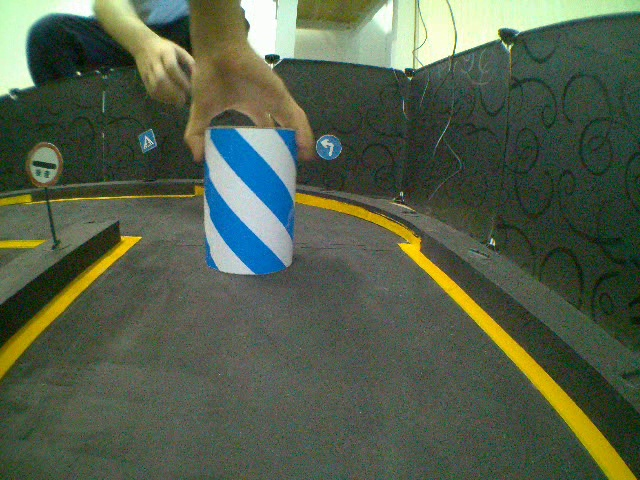bucket: (202, 126, 297, 276)
